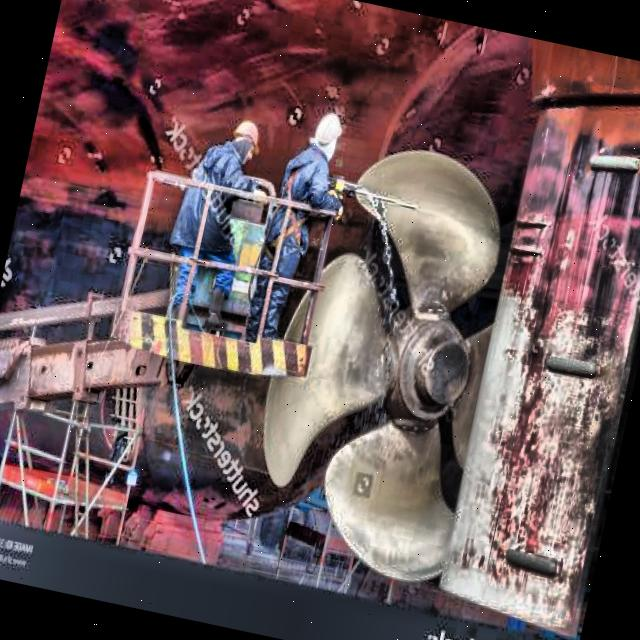helmet: (304, 102, 349, 164), (222, 113, 268, 169)
